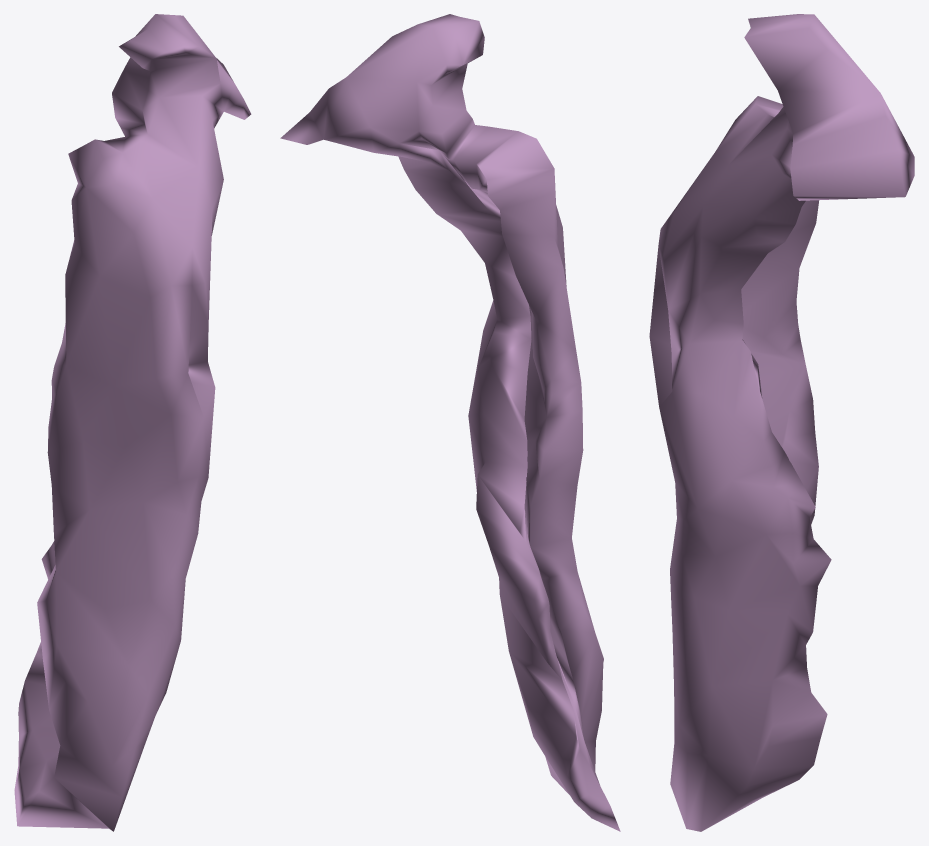
3 renders of one model, left to right at view 1: azimuth 30°, elevation 25°; view 2: azimuth 150°, elevation 25°; view 3: azimuth 270°, elevation 25°, orthographic. The views are drawn at different scales.
Parts seen in each view (by area): view 1: 左侧嗅沟; view 2: 左侧嗅沟; view 3: 左侧嗅沟.
Part boxes in pixels (left/top/right/bottom): 左侧嗅沟: left=14, top=14, right=251, bottom=831; 左侧嗅沟: left=280, top=14, right=620, bottom=831; 左侧嗅沟: left=649, top=14, right=914, bottom=831.
Size of the model in its own units: 0.0314 by 0.0848 by 0.0233.
